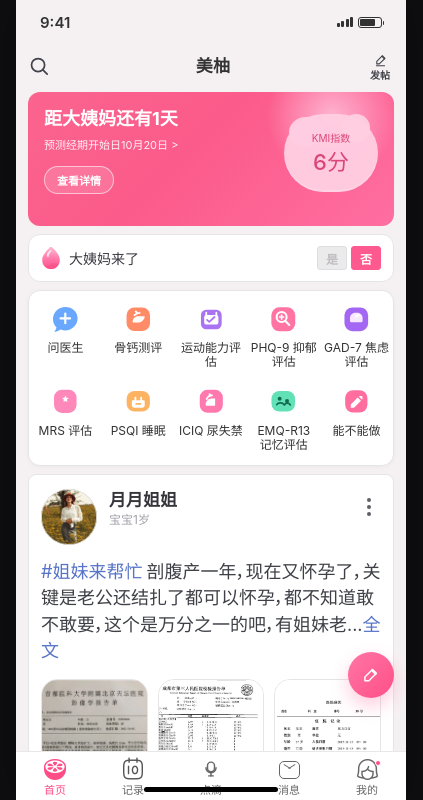
Test case: scene1 ui › replaces the homepage hcg entry with PHQ-9 抑郁评估 and links it to the questionnaire
Click the button "PHQ-9 抑郁评估" at (284, 333), box [247,297,320,370]
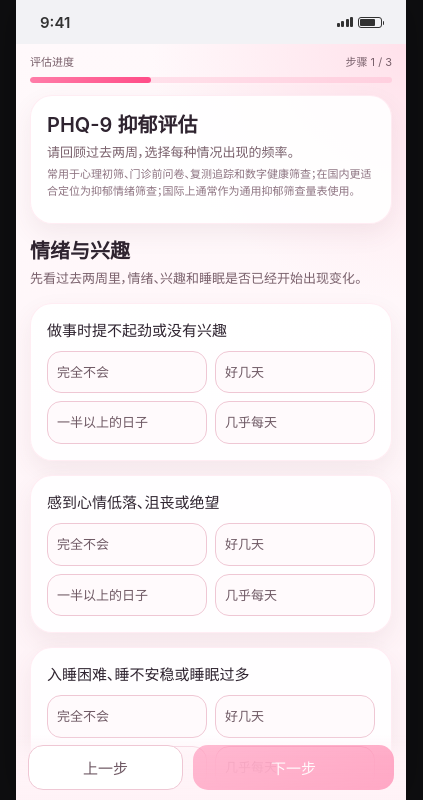
Check: the element with test id "scene1-phq9-assessment-route-shell" is shown
